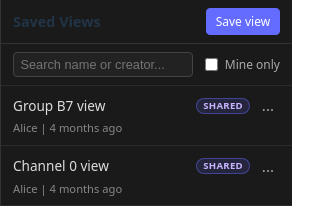
Test: WorkspaceSavedViewsSidebar — filter and search › the search box filters the list by name substring
The image size is (320, 223).
In the field with placeholder "Search name or creator...": (103, 64) [13, 52, 193, 77], type "Group"
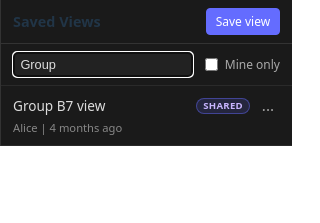
Expected: the text "Group B7 view" is shown, [13, 96, 105, 115]
Result: the text "Channel 0 view" is gone
